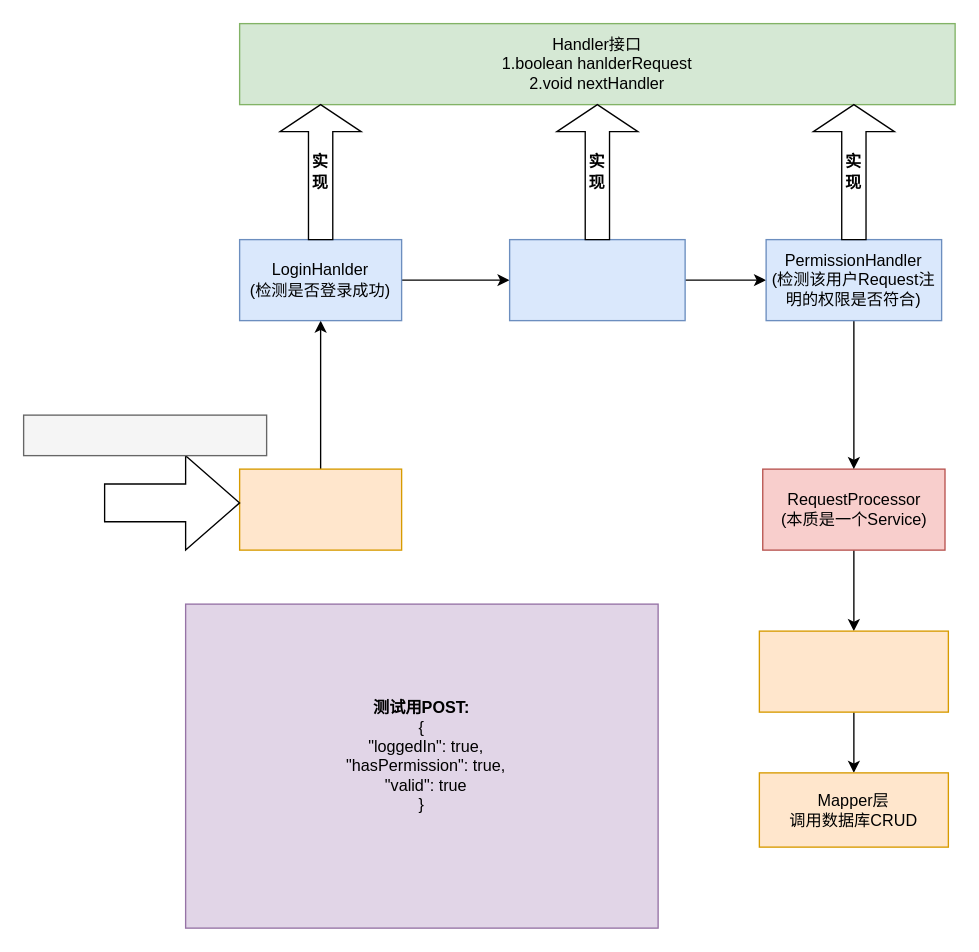
Some shapes in this 979 by 952 pixel diagram are drawn without their labels. Each missing label, with the centre of its shape:
"Controller" belongs at pixel 320 509.
"ParameterHandler (检测Post传参是否正确)" belongs at pixel 596 279.
"具体业务Service (譬如博客/员工/管理 )" belongs at pixel 853 671.
"前端的发来的Restful风格请求" belongs at pixel 144 435.
